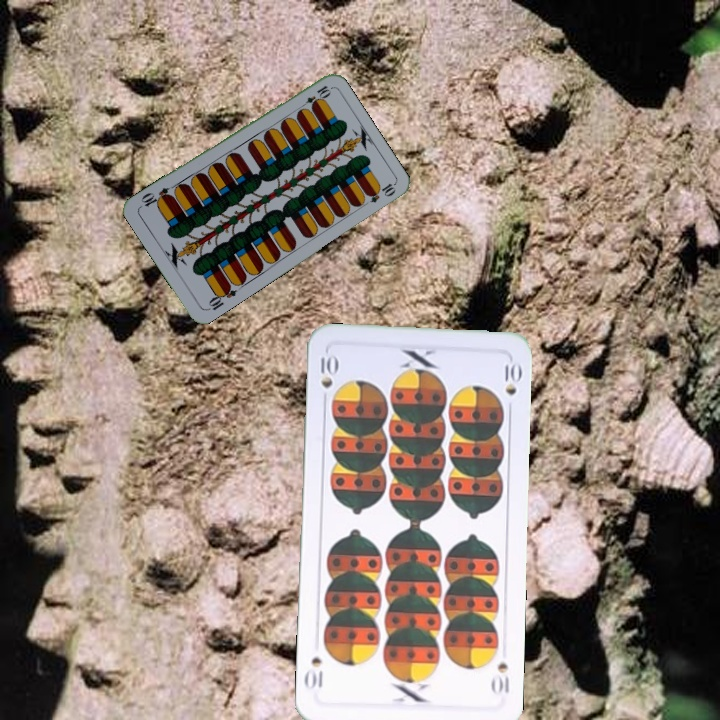E10: (203, 281, 239, 313), (296, 81, 333, 112)
S10: (316, 348, 338, 391), (488, 659, 512, 696)
